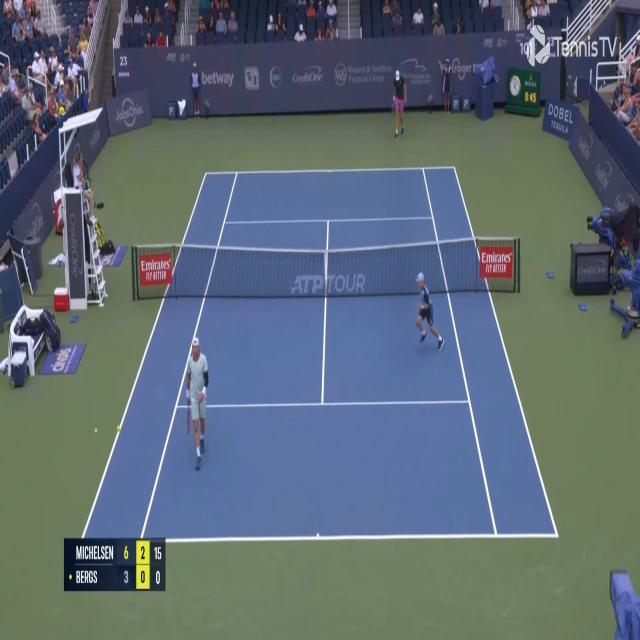tennis-player: (184, 334, 209, 475), (389, 70, 406, 140)
